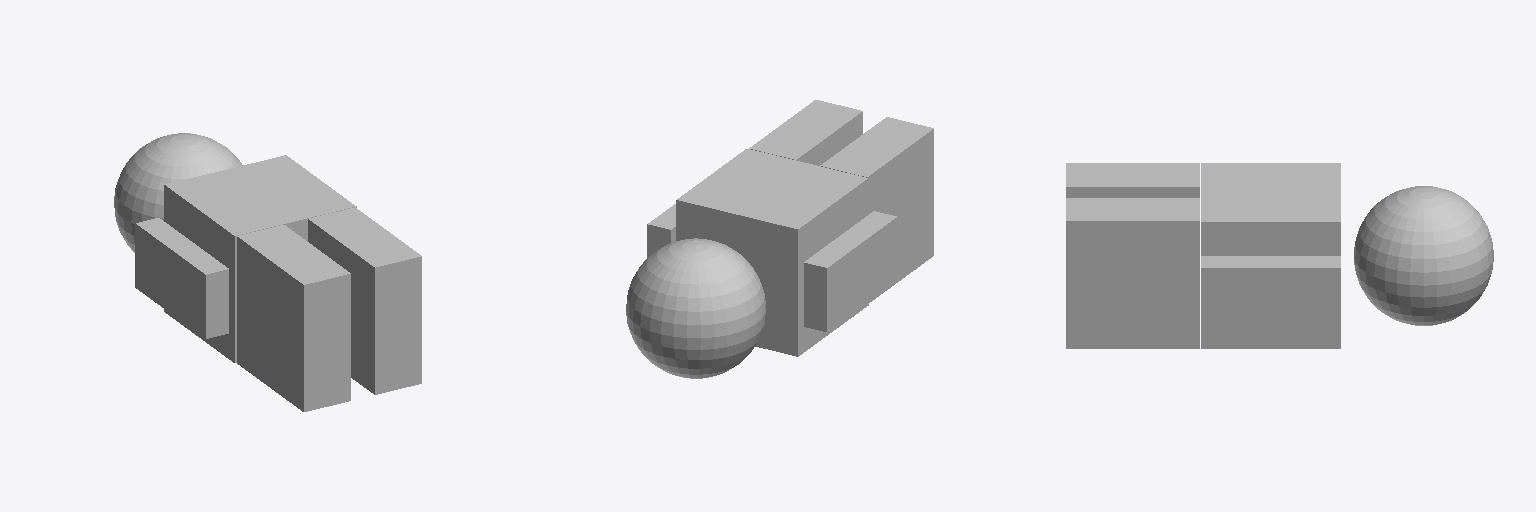
The model's file is rocky_robot_animation_000009.obj.
3 views of the same model, side by side, from view 1: azimuth 30°, elevation 25°; view 2: azimuth 150°, elevation 25°; view 3: azimuth 270°, elevation 25° (orthographic).
Parts seen in each view (by area): view 1: Cube.001_Cube.005, Cube.002, Cube, Cube.004, Sphere.001; view 2: Cube, Sphere.001, Cube.001_Cube.005, Cube.004, Cube.002, Cube.003; view 3: Cube.002, Sphere.001, Cube, Cube.003, Cube.001_Cube.005.
Boxes of the visible parts, x1=… form: Cube.001_Cube.005: x1=237, y1=225, x2=350, y2=411; Cube.002: x1=308, y1=207, x2=421, y2=394; Cube: x1=164, y1=155, x2=356, y2=362; Cube.004: x1=135, y1=218, x2=228, y2=338; Sphere.001: x1=114, y1=133, x2=242, y2=252; Cube: x1=676, y1=149, x2=868, y2=356; Sphere.001: x1=626, y1=238, x2=765, y2=378; Cube.001_Cube.005: x1=820, y1=117, x2=933, y2=302; Cube.004: x1=804, y1=211, x2=897, y2=332; Cube.002: x1=749, y1=100, x2=862, y2=165; Cube.003: x1=647, y1=204, x2=675, y2=257; Cube.002: x1=1066, y1=198, x2=1199, y2=348; Sphere.001: x1=1354, y1=186, x2=1493, y2=325; Cube: x1=1201, y1=163, x2=1340, y2=348; Cube.003: x1=1201, y1=256, x2=1340, y2=331; Cube.001_Cube.005: x1=1066, y1=163, x2=1199, y2=197.
Size of the model in its own units: 0.76 by 0.514 by 1.57.